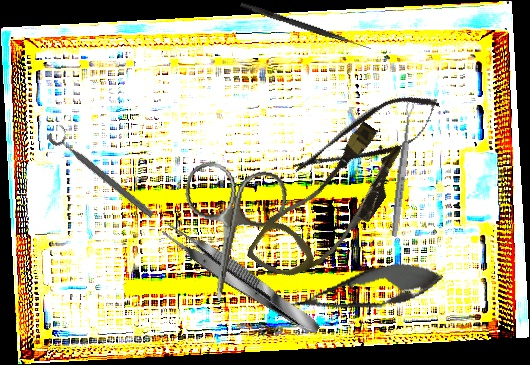Cannula: (244, 109, 415, 302)
Fixation Ring: (45, 122, 162, 221)
Hook Surgical: (239, 1, 373, 52)
Iris Scissors: (167, 158, 291, 311)
Micro Scissor: (284, 82, 450, 192), (271, 253, 447, 331)
Surgical Spoon: (389, 102, 416, 238)
Tissue Forceps: (157, 216, 325, 343)
